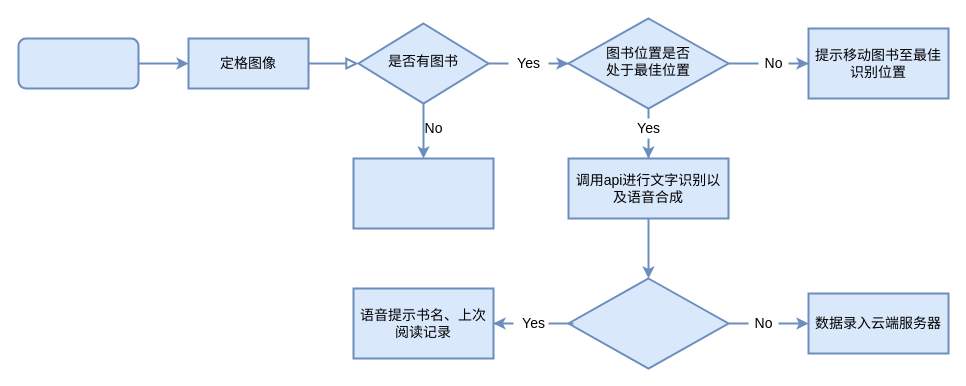
Image size: 966x386. Some labels were removed from this diagram. Here are the shapes that lost their labels. From the top down, the centre of each, then its label:
pixel 78 63: 指令交互
pixel 423 193: 提示当前视野内没有图书
pixel 648 323: 云端服务器是否 有阅读记录
